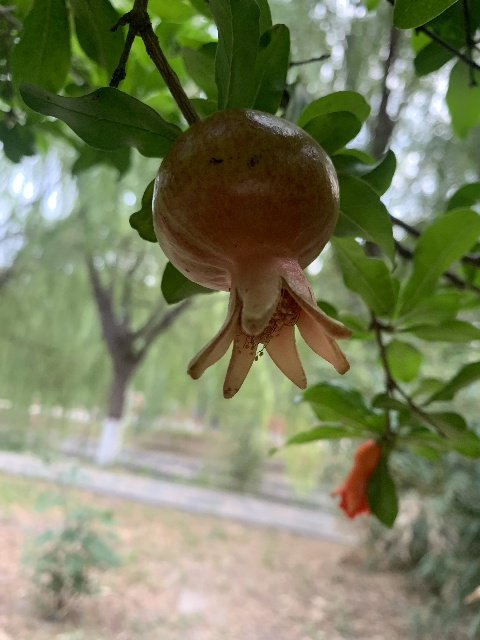early-fruit: (151, 108, 352, 399)
flower: (330, 439, 381, 520)
